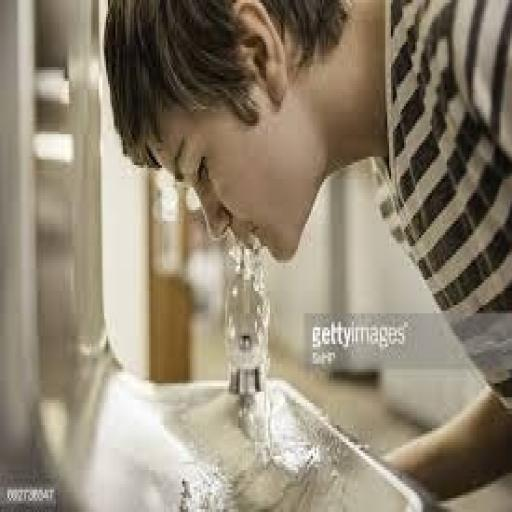drinking: (99, 30, 404, 402)
